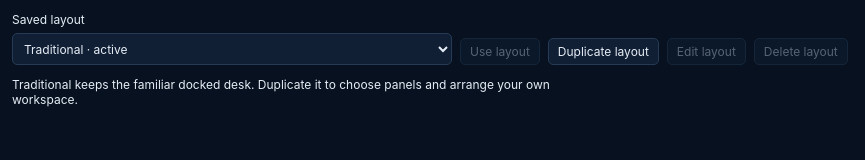
protects built-in presets and requires confirmation to delete an inactive custom preset
expect the button "Edit layout" is disabled: met, box [667, 38, 746, 65]
expect the button "Delete layout" is disabled: met, box [754, 38, 848, 65]
Step 1. Select "Windowed" in the dropdown labelled "Saved layout" → (232, 49), box [12, 33, 452, 65]
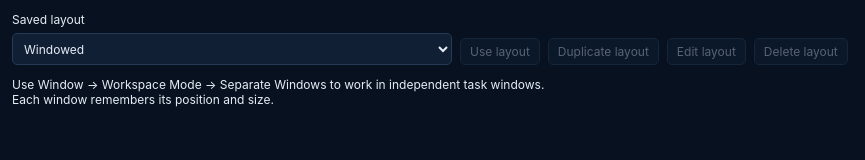
expect the button "Edit layout" is disabled: met, box [667, 38, 746, 65]
expect the button "Duplicate layout" is disabled: met, box [548, 38, 659, 65]
Step 2. Select "Custom" in the dropdown labelled "Saved layout" → (232, 49), box [12, 33, 452, 65]
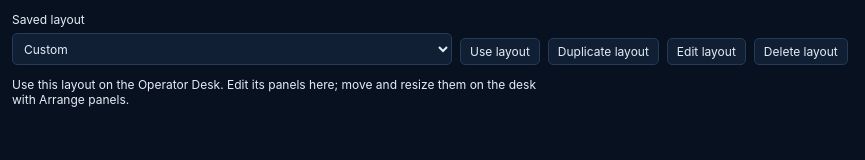
Step 3. Click the button "Delete layout" → (801, 52), box [754, 38, 848, 65]
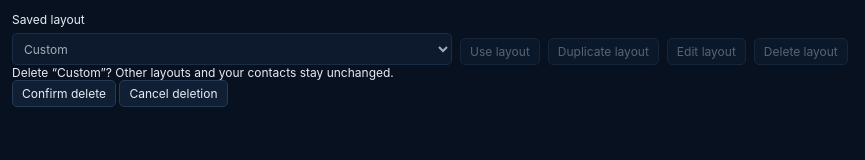
Step 4. Click the button "Cancel deletion" → (173, 94), box [119, 80, 228, 107]
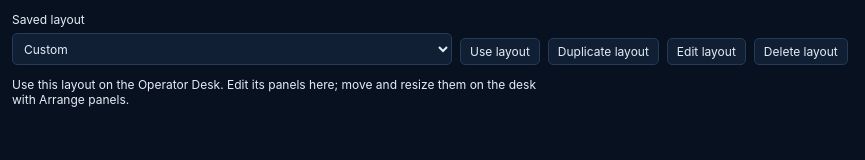
Step 5. Click the button "Delete layout" → (801, 52), box [754, 38, 848, 65]
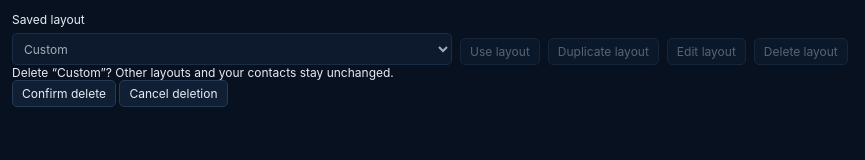
Step 6. Click the button "Confirm delete" → (64, 94), box [12, 80, 116, 107]
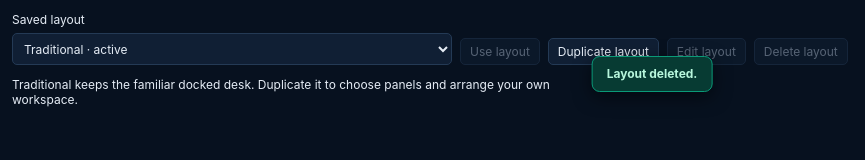
expect the text "Layout deleted." is shown: met, box [592, 56, 712, 92]
